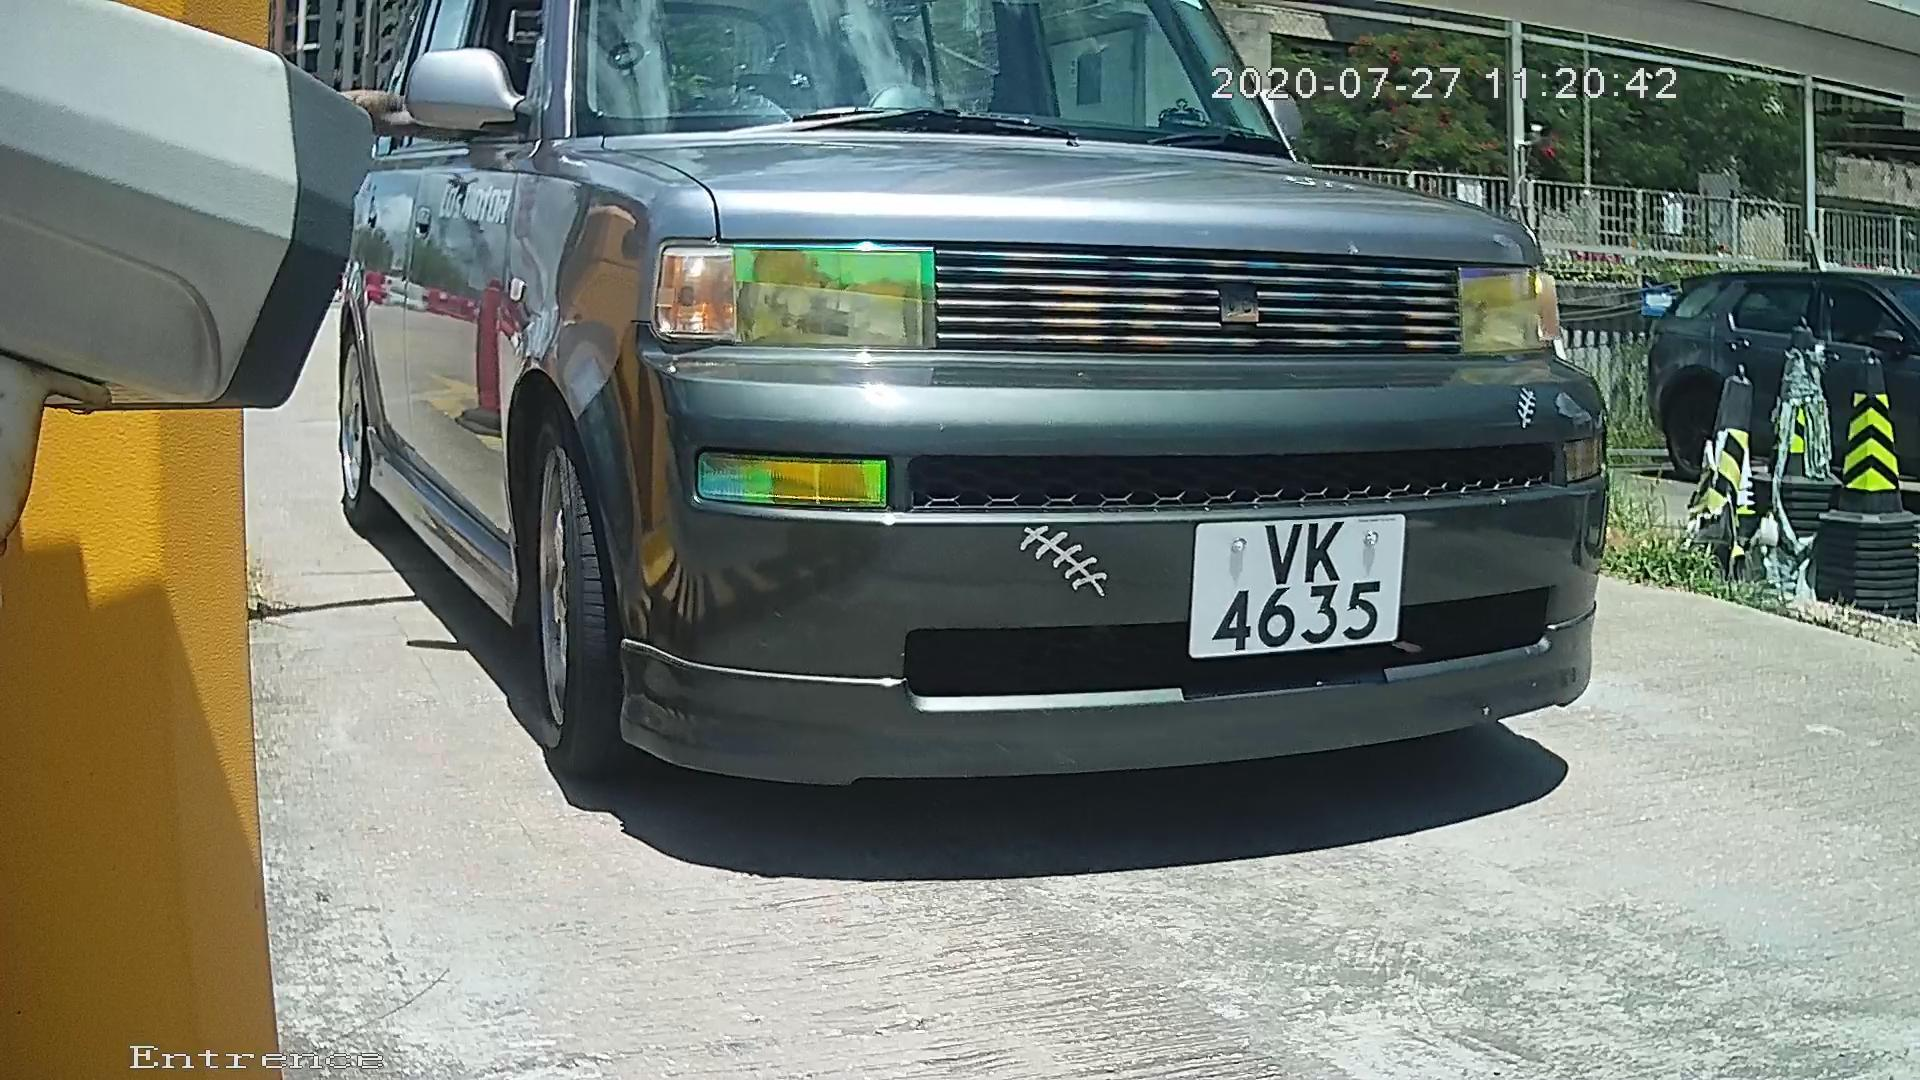Car: (275, 49, 1646, 888)
License Plate: (1158, 497, 1423, 671)
